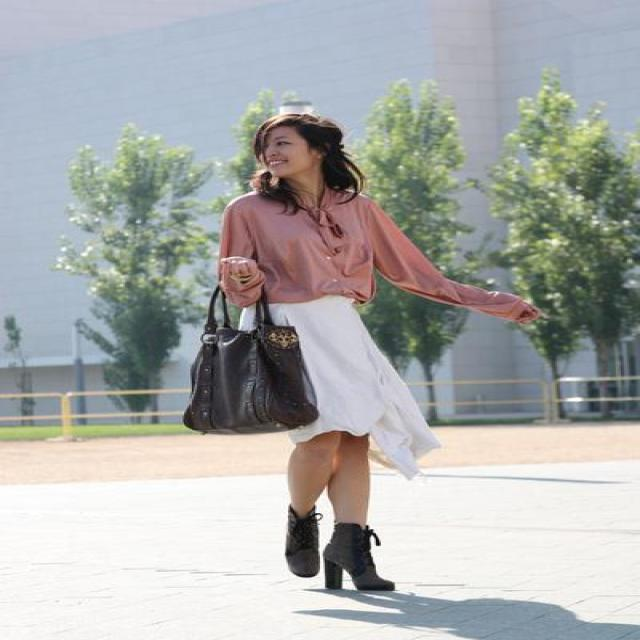bag: (182, 320, 317, 434)
shirt: (213, 194, 517, 316)
shoe: (285, 525, 395, 592)
skirt: (237, 296, 427, 481)
